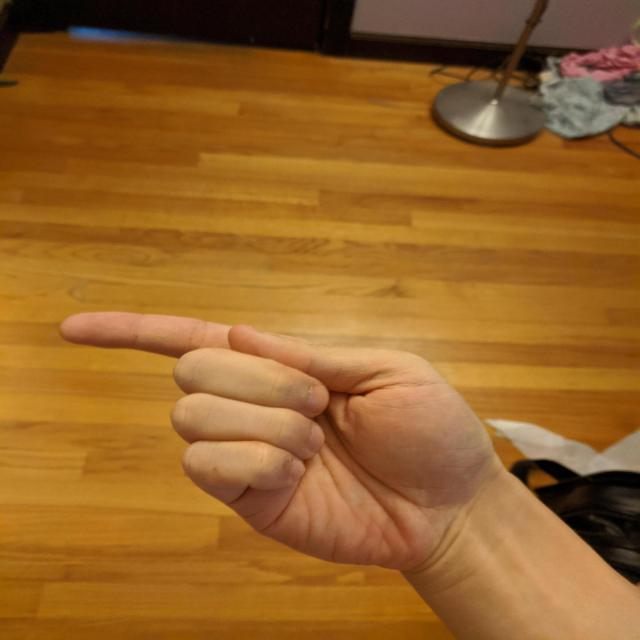G: (52, 304, 500, 575)
